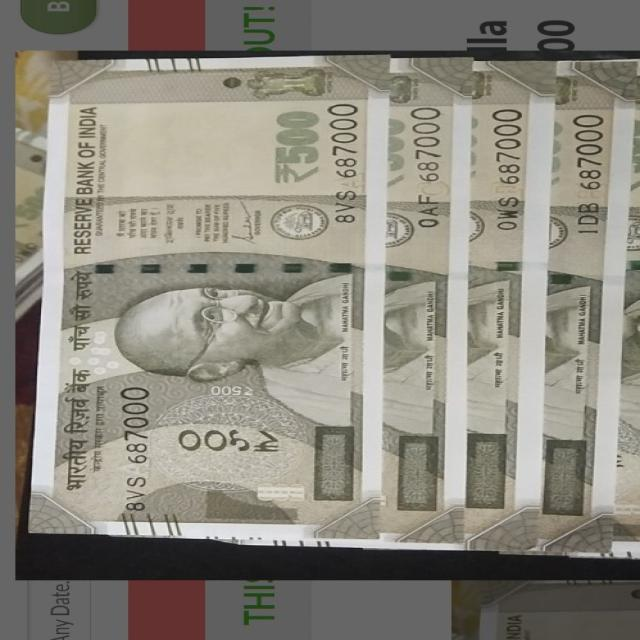500IndianRupees: (40, 58, 388, 537)
